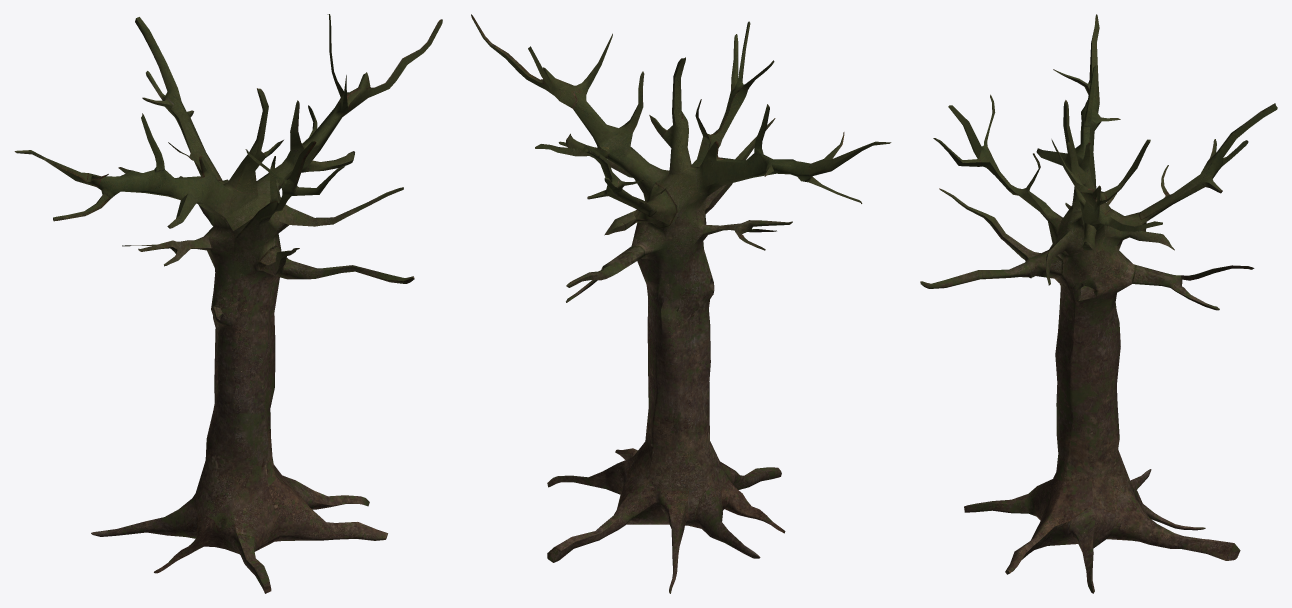
Rendered from tree2.glb.
3 renders of one model, left to right at view 1: azimuth 30°, elevation 25°; view 2: azimuth 150°, elevation 25°; view 3: azimuth 270°, elevation 25°, orthographic. The views are drawn at different scales.
Visible parts, largest first — view 1: Tree; view 2: Tree; view 3: Tree.
Boxes of the visible parts, x1,y1,x2,y2 form: Tree: (14,14,442,593); Tree: (471,14,891,593); Tree: (920,14,1277,593).
Bounding box in the file's own units: 5.13 × 5.65 × 3.9.
Materials: 1 (1 with a texture image).
